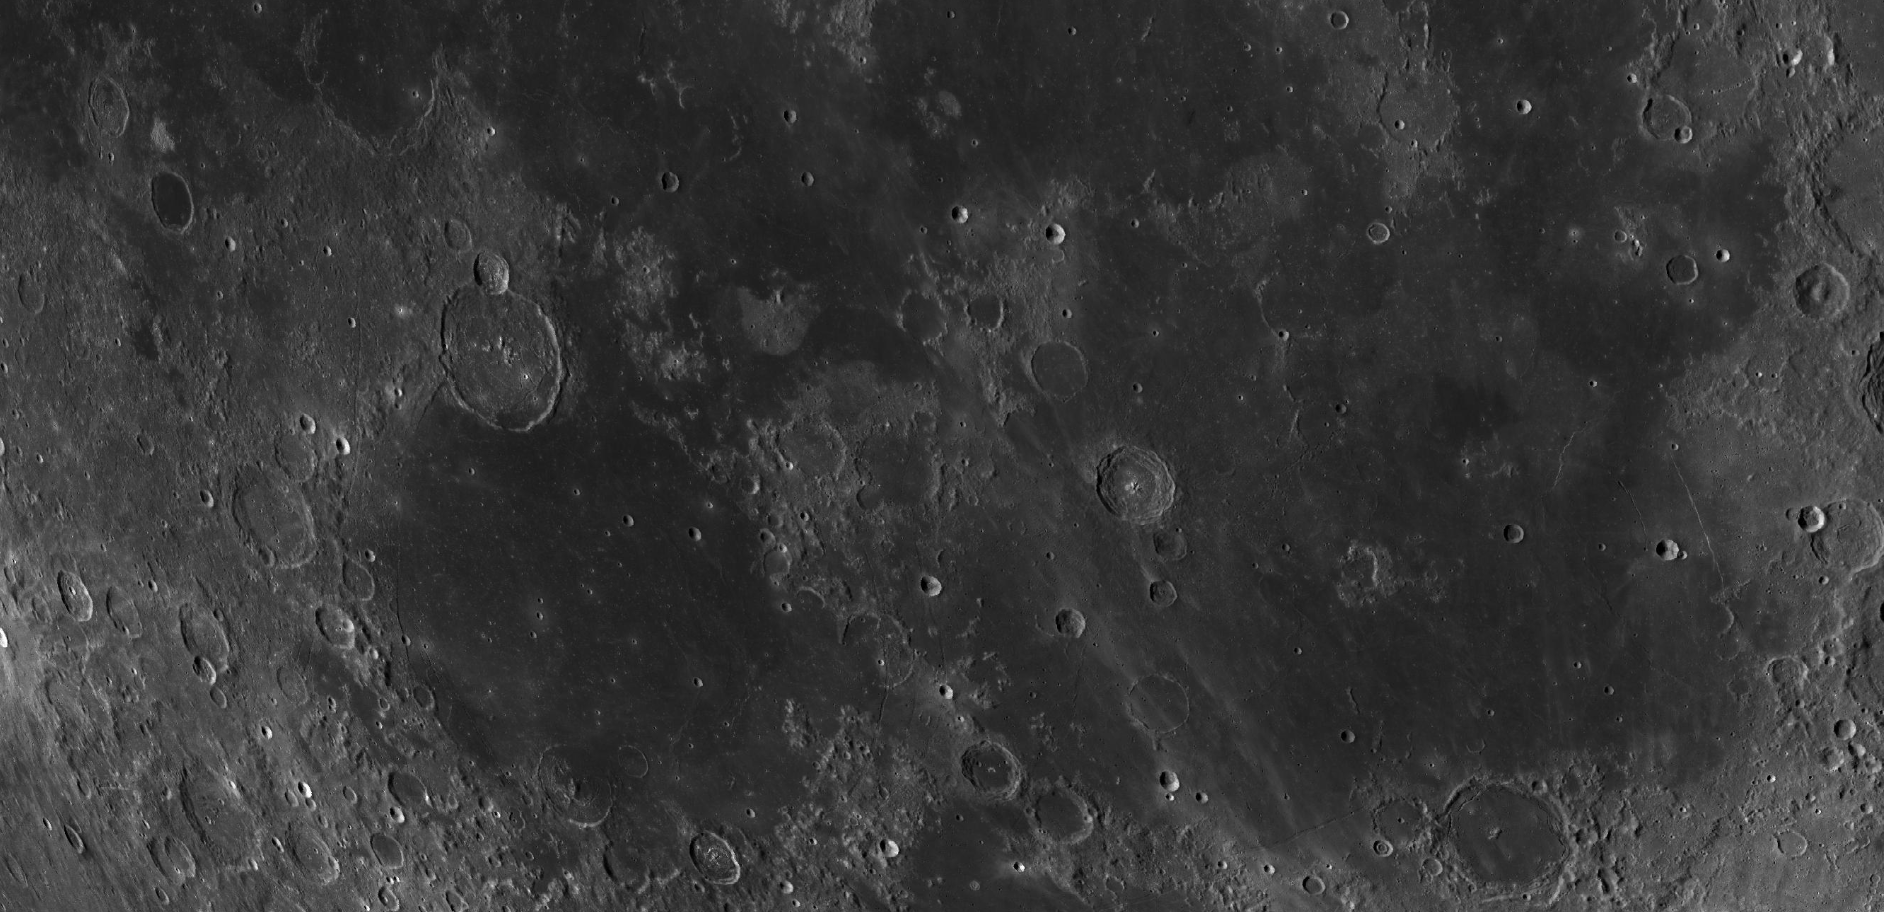crater: (1079, 439, 1209, 529), (938, 726, 1027, 825), (1021, 333, 1120, 422), (61, 50, 150, 148), (1111, 667, 1221, 744), (99, 554, 151, 662), (139, 161, 199, 251), (42, 555, 97, 640), (1339, 199, 1420, 256), (1655, 240, 1715, 300), (1761, 819, 1817, 874), (646, 159, 702, 203), (761, 85, 813, 130)
